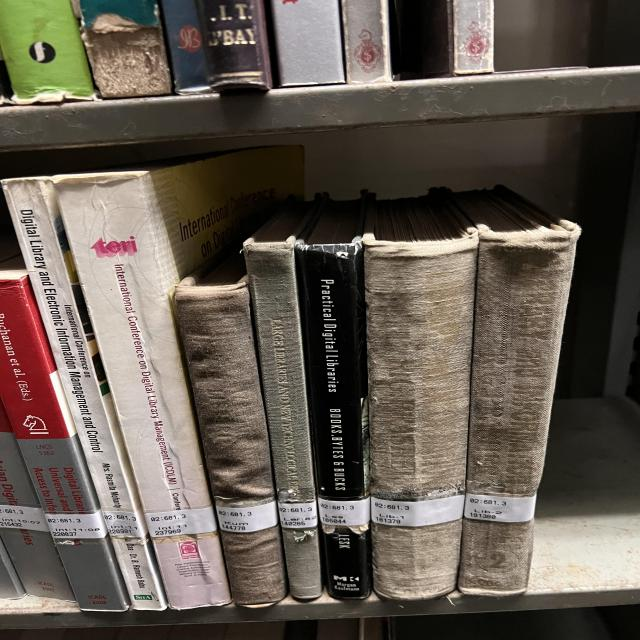Book: (52, 146, 303, 609), (2, 178, 167, 610), (452, 185, 580, 596), (362, 192, 478, 600), (0, 275, 130, 611), (175, 255, 287, 606), (243, 202, 323, 600), (295, 199, 372, 599), (0, 402, 75, 601)
Label: (372, 495, 465, 526), (145, 506, 217, 538), (465, 494, 537, 522), (217, 501, 278, 532), (45, 511, 108, 539), (318, 498, 370, 526), (0, 505, 50, 532), (103, 511, 147, 538), (278, 501, 318, 529)
